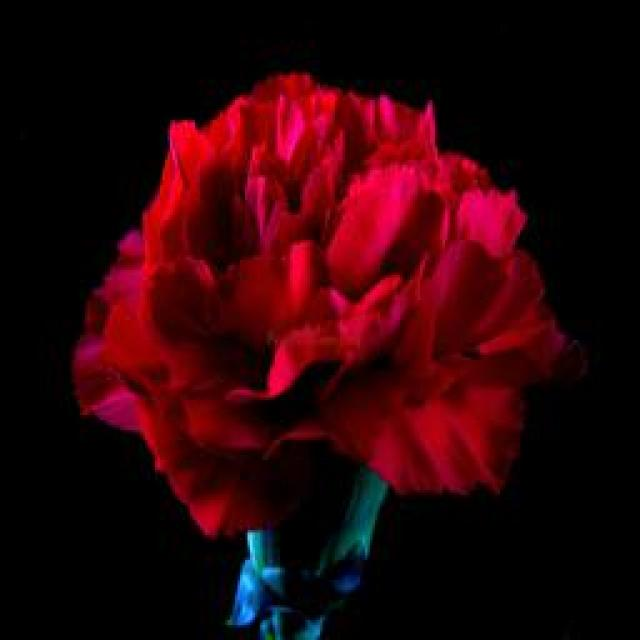carnation: (69, 50, 610, 530)
